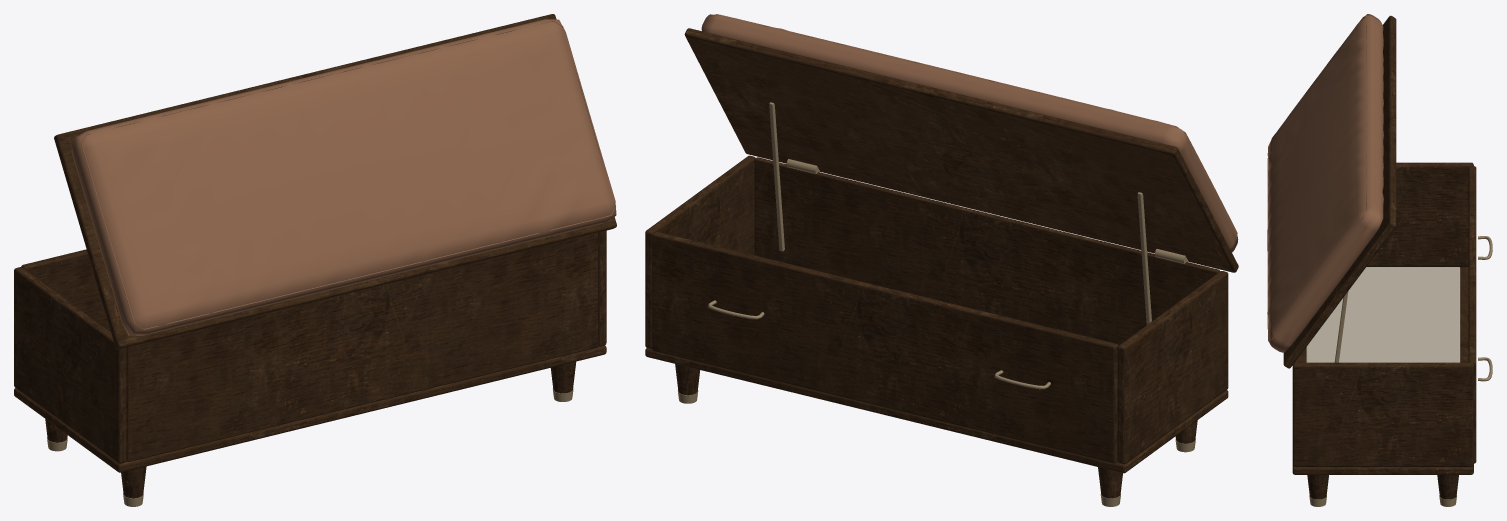
File: crafted-lift-bench.glb
3 renders of one model, left to right at view 1: azimuth 30°, elevation 25°; view 2: azimuth 150°, elevation 25°; view 3: azimuth 270°, elevation 25°, orthographic. The views are drawn at different scales.
Visible parts, largest first — view 1: leather_surfaces, walnut_surfaces; view 2: walnut_surfaces, leather_surfaces, bronze_surfaces; view 3: walnut_surfaces, leather_surfaces, linen_surfaces, bronze_surfaces.
Part boxes in pixels (bbox=[...]): leather_surfaces: bbox=[71, 19, 616, 335]; walnut_surfaces: bbox=[14, 14, 616, 498]; walnut_surfaces: bbox=[645, 28, 1238, 498]; leather_surfaces: bbox=[701, 14, 1238, 252]; bronze_surfaces: bbox=[678, 102, 1195, 506]; walnut_surfaces: bbox=[1283, 15, 1476, 499]; leather_surfaces: bbox=[1267, 14, 1383, 352]; linen_surfaces: bbox=[1306, 267, 1460, 362]; bronze_surfaces: bbox=[1309, 236, 1492, 506].
Bounding box in the file's own units: 1.44 × 0.9754 × 0.659.
Materials: 4 (1 with a texture image).
